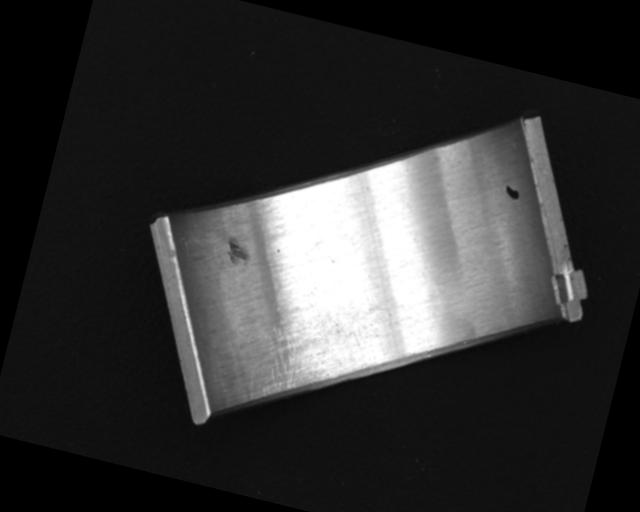blot: (502, 183, 522, 201)
bruise: (221, 237, 254, 268)
scratch: (243, 295, 379, 424)
